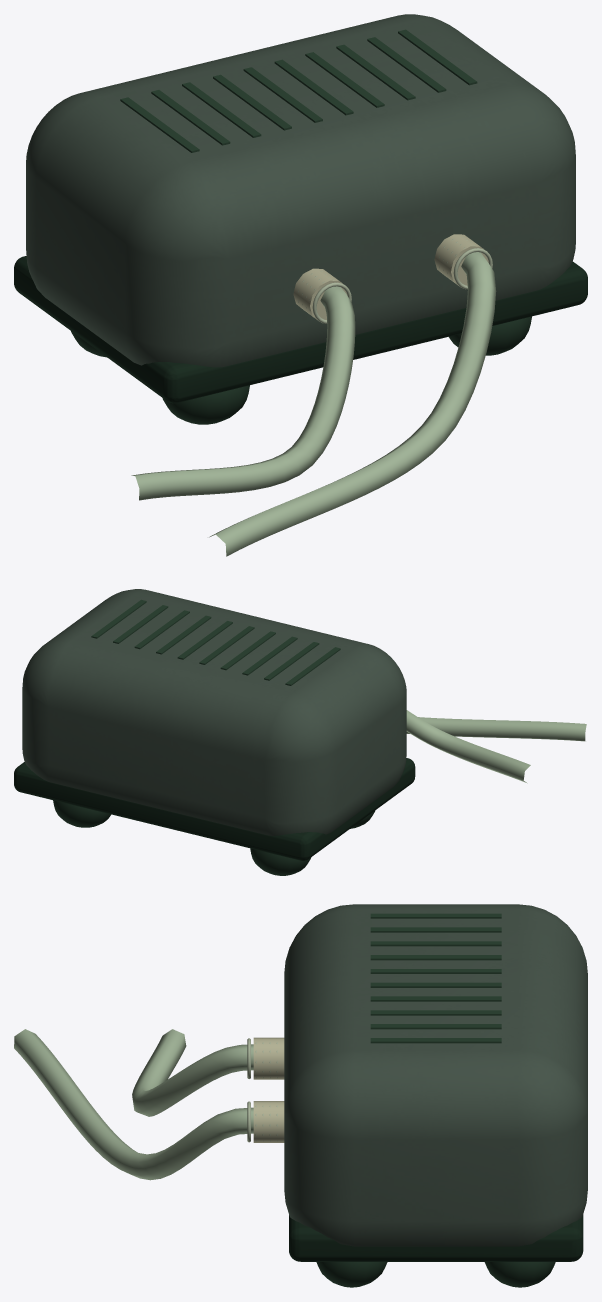
The model's file is pump.glb.
3 renders of one model, top to bottom at view 1: azimuth 30°, elevation 25°; view 2: azimuth 150°, elevation 25°; view 3: azimuth 270°, elevation 25°, orthographic. The views are drawn at different scales.
Parts seen in each view (by area): view 1: geo_4740_b0536269, geo_4740_151d0fc1, geo_203_806dd973, geo_203_bb83fd01, geo_24_2b9d3bb5 (×10), geo_221_160eda05 (×2), geo_76_5410d7c5 (×2); view 2: geo_4740_b0536269, geo_4740_151d0fc1, geo_203_806dd973, geo_203_bb83fd01, geo_221_160eda05 (×2), geo_24_2b9d3bb5 (×3); view 3: geo_4740_b0536269, geo_203_806dd973, geo_24_2b9d3bb5 (×10), geo_4740_151d0fc1, geo_203_bb83fd01, geo_221_160eda05 (×2), geo_76_5410d7c5 (×2).
Boxes of the visible parts, x1=… form: geo_4740_b0536269: x1=26, y1=14, x2=575, y2=367; geo_4740_151d0fc1: x1=14, y1=256, x2=587, y2=403; geo_203_806dd973: x1=209, y1=252, x2=496, y2=556; geo_203_bb83fd01: x1=131, y1=286, x2=355, y2=500; geo_24_2b9d3bb5 (×10): x1=120, y1=29, x2=477, y2=152; geo_221_160eda05 (×2): x1=162, y1=316, x2=531, y2=424; geo_76_5410d7c5 (×2): x1=293, y1=234, x2=488, y2=319; geo_4740_b0536269: x1=22, y1=589, x2=406, y2=835; geo_4740_151d0fc1: x1=14, y1=758, x2=415, y2=860; geo_203_806dd973: x1=406, y1=717, x2=586, y2=741; geo_203_bb83fd01: x1=406, y1=710, x2=530, y2=783; geo_221_160eda05 (×2): x1=53, y1=800, x2=311, y2=875; geo_24_2b9d3bb5 (×3): x1=91, y1=599, x2=275, y2=670; geo_4740_b0536269: x1=284, y1=904, x2=587, y2=1246; geo_203_806dd973: x1=14, y1=1029, x2=253, y2=1180; geo_24_2b9d3bb5 (×10): x1=370, y1=913, x2=501, y2=1043; geo_4740_151d0fc1: x1=289, y1=1214, x2=583, y2=1261; geo_203_bb83fd01: x1=132, y1=1029, x2=253, y2=1116; geo_221_160eda05 (×2): x1=316, y1=1262, x2=555, y2=1287; geo_76_5410d7c5 (×2): x1=253, y1=1037, x2=284, y2=1142.
Bounding box in the file's own units: 1.21 × 0.569 × 1.23.
19 materials, 2 textured.
